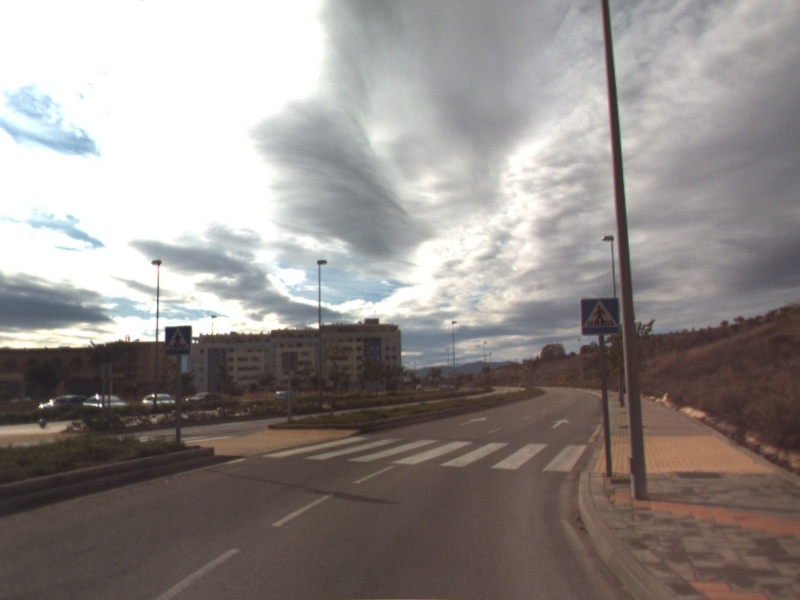STRAIGHT: (457, 415, 488, 427), (550, 417, 572, 430)
